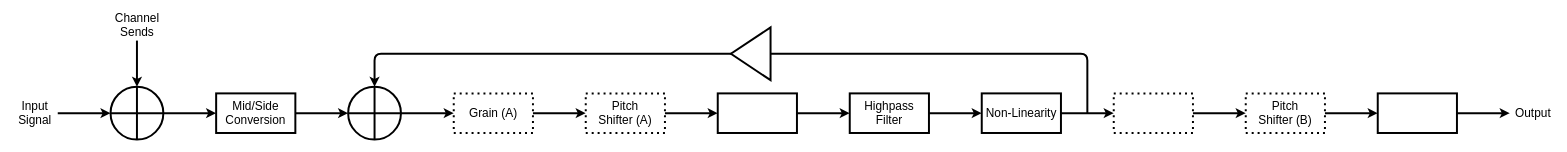
The diagram is 1567 pixels wide and 152 high, and some of its shapes have lost their labels. Here are the shapes that lost their labels. From the top down, the centre of each, then its label:
At (x=757, y=113): "Lowpass Filter".
At (x=1153, y=113): "Grain (B)".
At (x=1417, y=113): "Left/Right Conversion".
